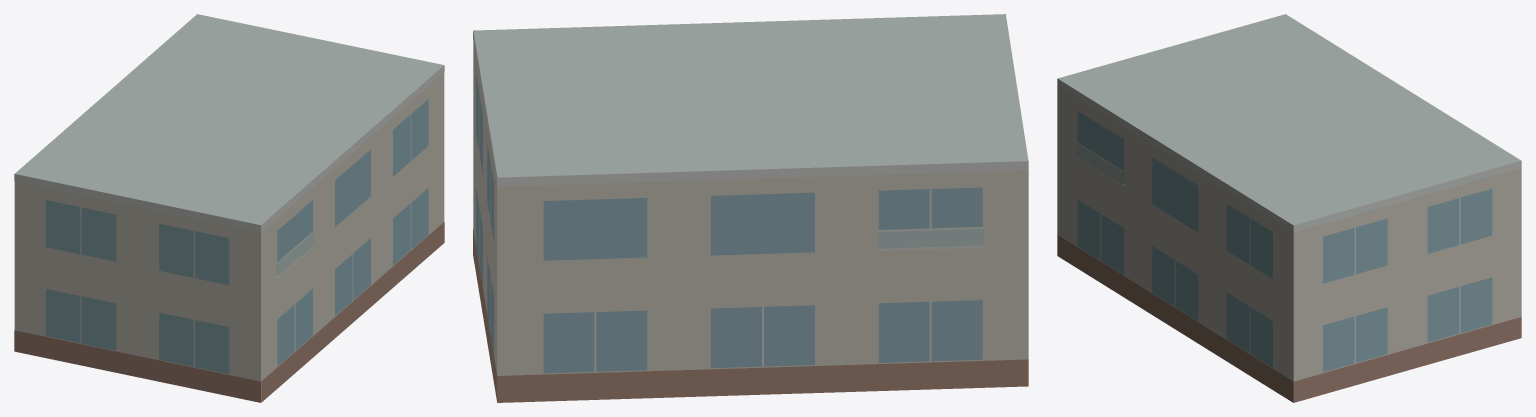
Rendered from survey-upis-32621835.glb.
3 views of the same model, side by side, from view 1: azimuth 30°, elevation 25°; view 2: azimuth 150°, elevation 25°; view 3: azimuth 270°, elevation 25° (orthographic). The views are drawn at different scales.
Parts seen in each view (by area): view 1: survey-upis-32621835.tmp; view 2: survey-upis-32621835.tmp; view 3: survey-upis-32621835.tmp.
Boxes of the visible parts, x1,y1,x2,y2 form: survey-upis-32621835.tmp: [14, 14, 444, 402]; survey-upis-32621835.tmp: [473, 14, 1028, 402]; survey-upis-32621835.tmp: [1057, 14, 1521, 402].
Bounding box in the file's own units: 15.6 × 6.1 × 14.47.
